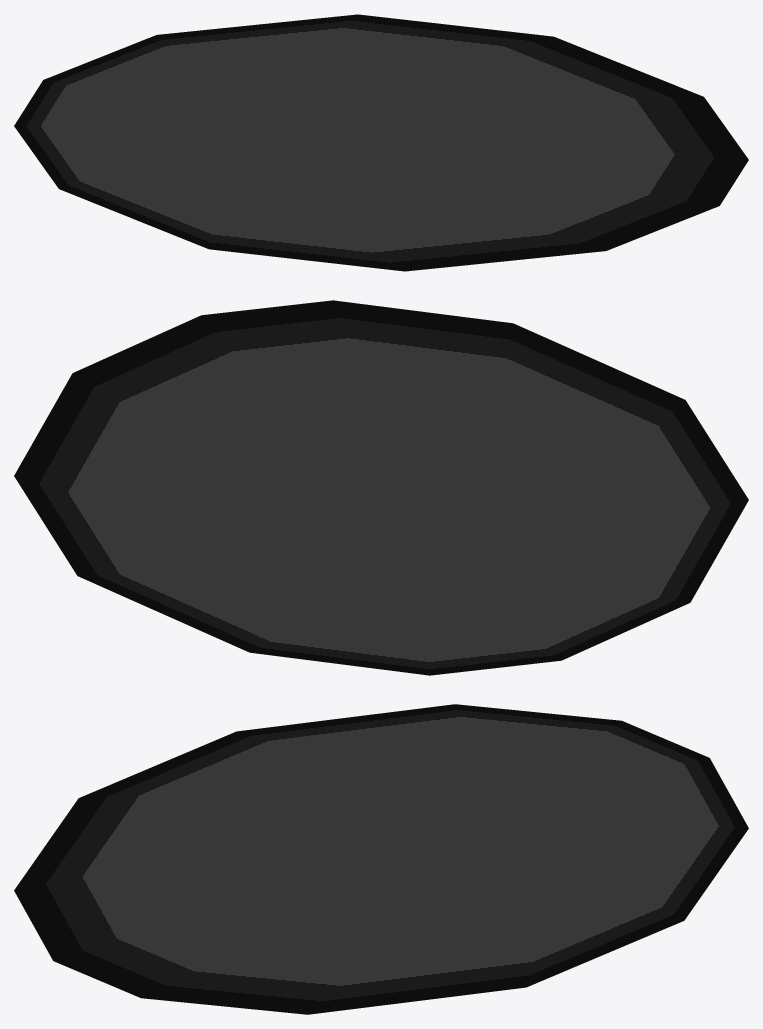
3 renders of one model, top to bottom at view 1: azimuth 30°, elevation 25°; view 2: azimuth 150°, elevation 25°; view 3: azimuth 270°, elevation 25°, orthographic. The views are drawn at different scales.
Parts seen in each view (by area): view 1: Joint_0_Object_0; view 2: Joint_0_Object_0; view 3: Joint_0_Object_0.
Part boxes in pixels (box(x1,y1,x2,y2)): Joint_0_Object_0: box(14, 14, 748, 271); Joint_0_Object_0: box(14, 300, 748, 675); Joint_0_Object_0: box(14, 704, 748, 1014).
Size of the model in its own units: 325 by 0 by 325.
